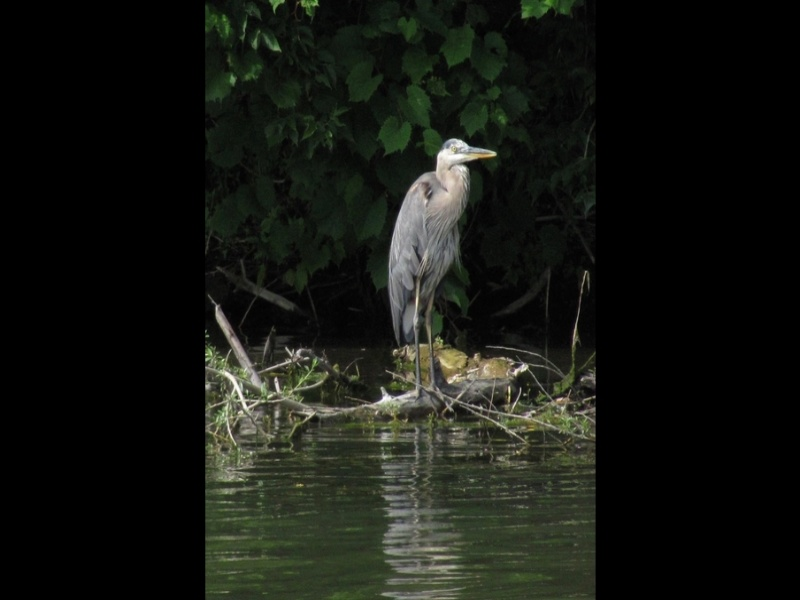heron: (388, 135, 495, 415)
